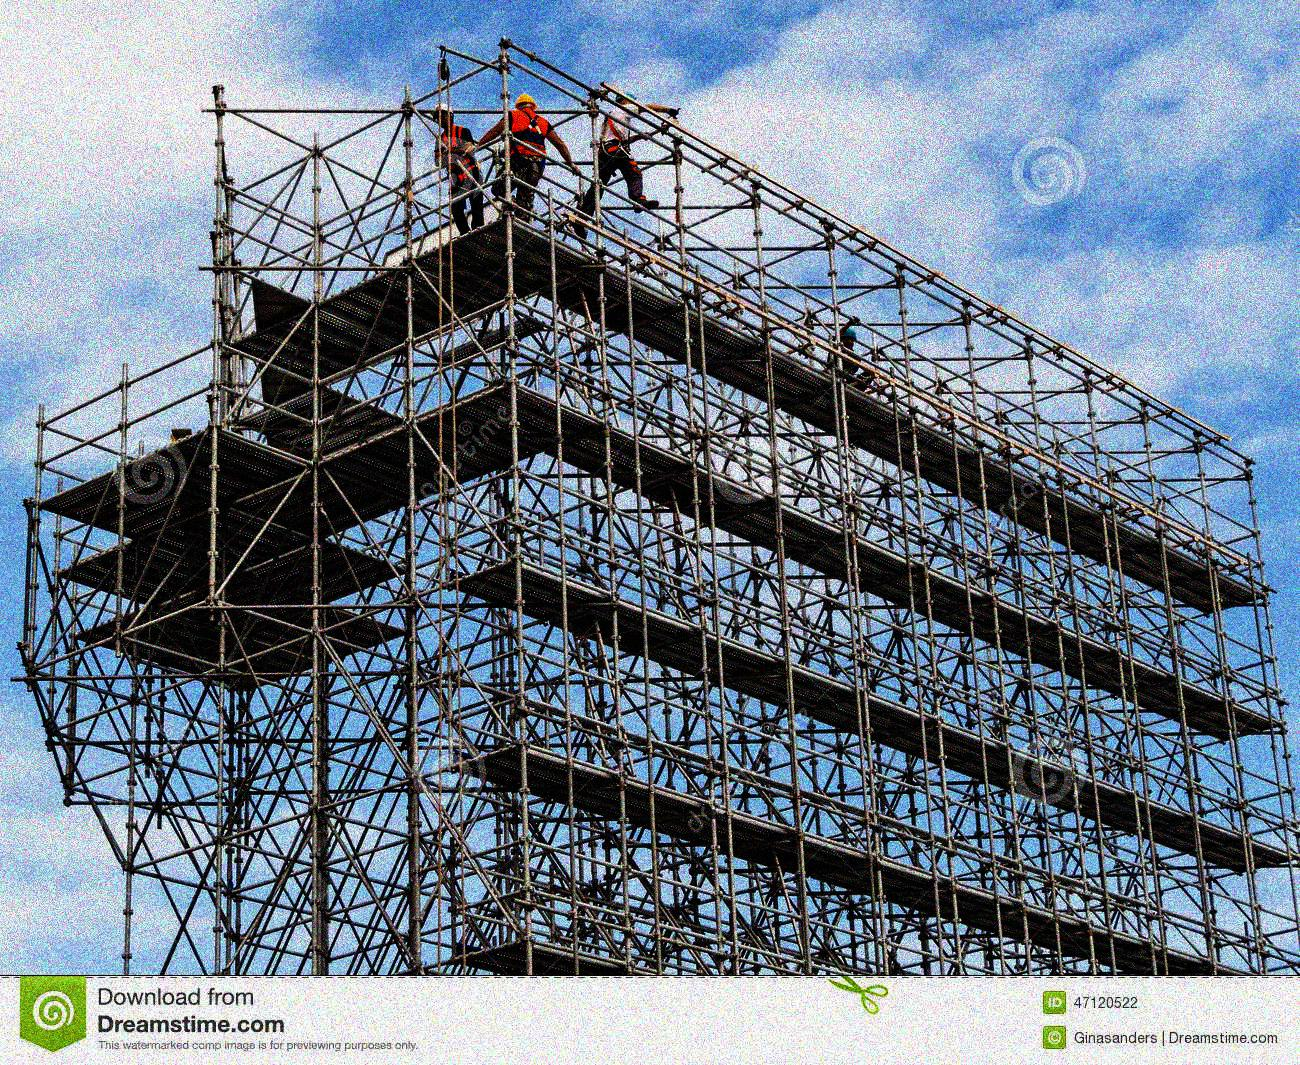helmet: (434, 102, 456, 129), (513, 91, 538, 113), (614, 89, 636, 108), (841, 326, 859, 349)
